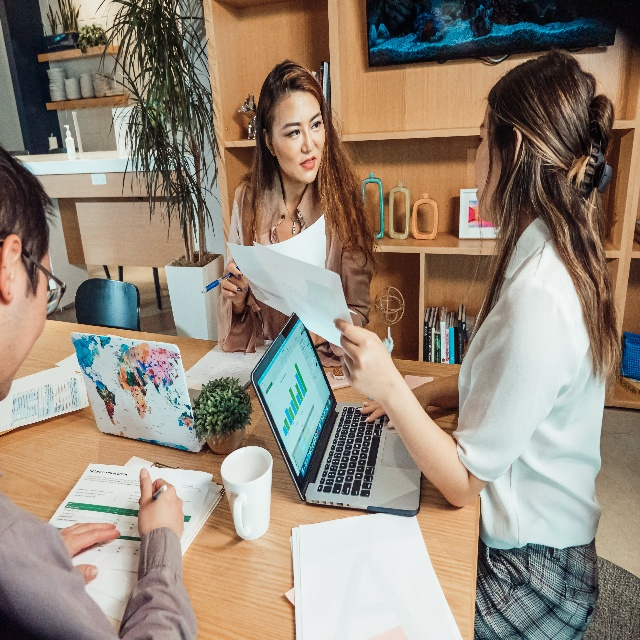Gafas: (0, 234, 67, 316)
Sin_guantes: (332, 315, 390, 395), (54, 518, 120, 583), (135, 465, 185, 541), (357, 384, 427, 429), (219, 260, 251, 303)
